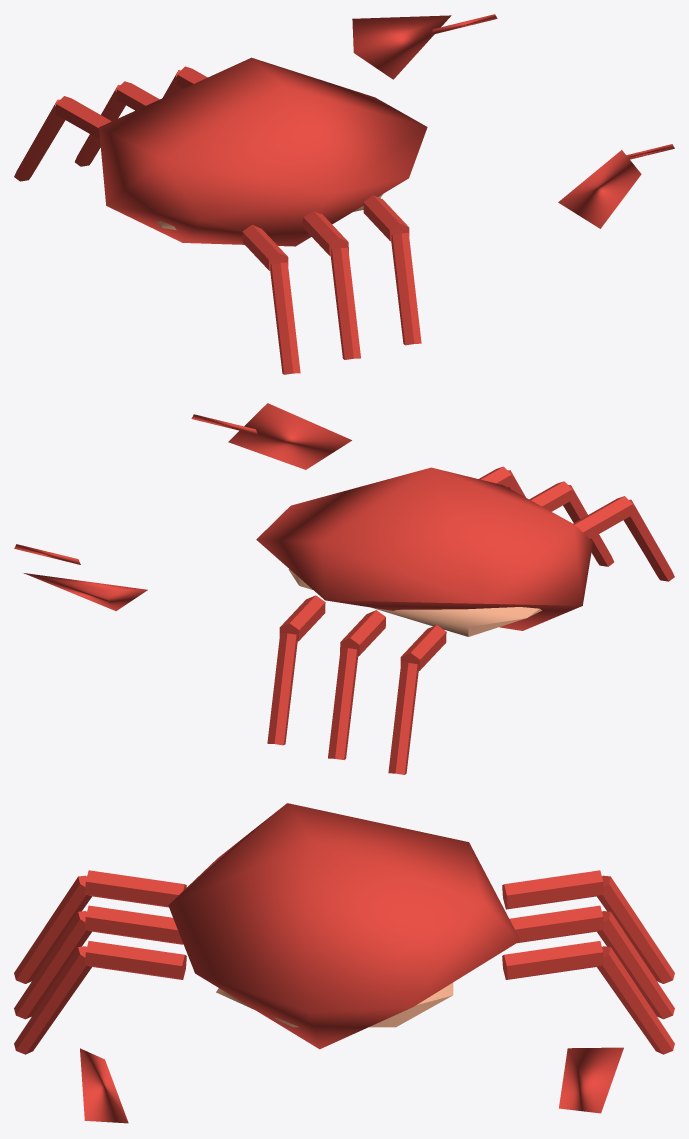
The model's file is crab.glb.
The picture shows the model from 3 angles, top to bottom: view 1: azimuth 30°, elevation 25°; view 2: azimuth 150°, elevation 25°; view 3: azimuth 270°, elevation 25°; orthographic projection. The views are drawn at different scales.
Parts seen in each view (by area): view 1: crab; view 2: crab; view 3: crab.
Part boxes in pixels (bbox=[...]): crab: bbox=[14, 14, 674, 374]; crab: bbox=[14, 403, 674, 774]; crab: bbox=[14, 803, 674, 1123].
Bounding box in the file's own units: 0.5158 × 0.1755 × 0.5149.
Materials: 1 (1 with a texture image).
